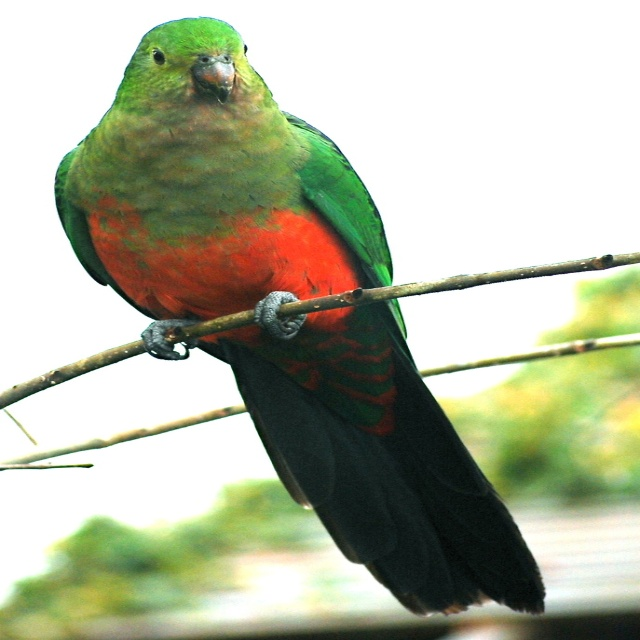Parrot: (51, 8, 551, 616)
